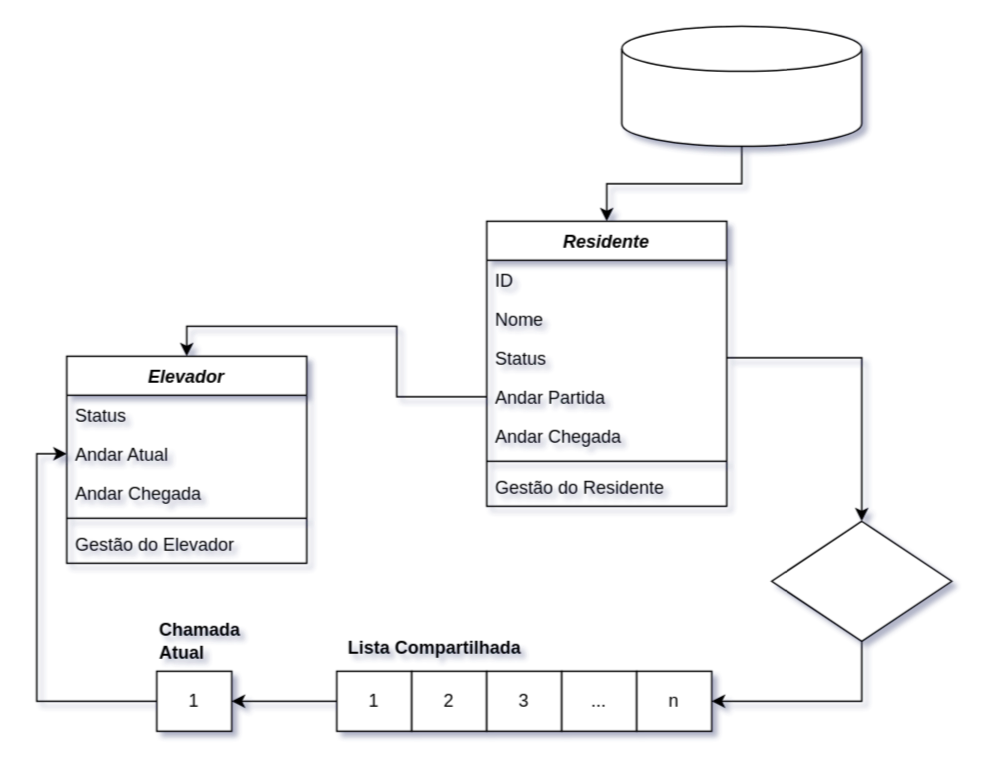
The diagram is 987 pixels wide and 767 high, and some of its shapes have lost their labels. Each missing label, with the centre of its shape:
"Chamado" goes at point 861,580.
"Lista de Residentes" goes at point 741,85.
